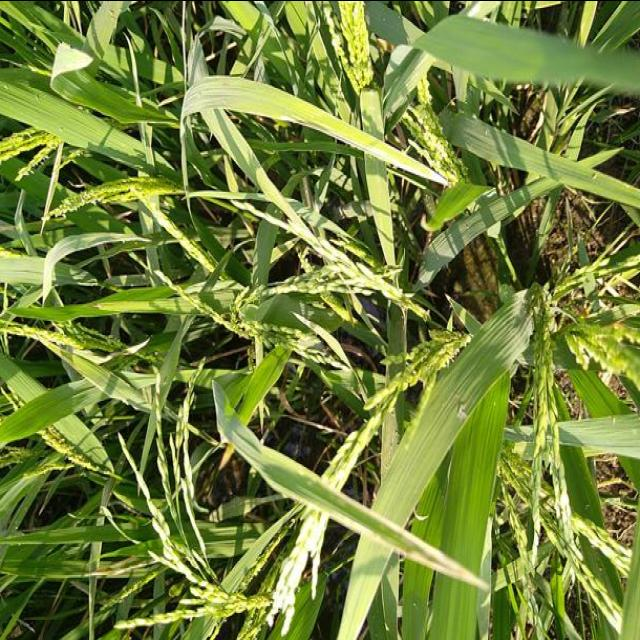Leaf Streak: (225, 415, 490, 589), (318, 116, 445, 181)
